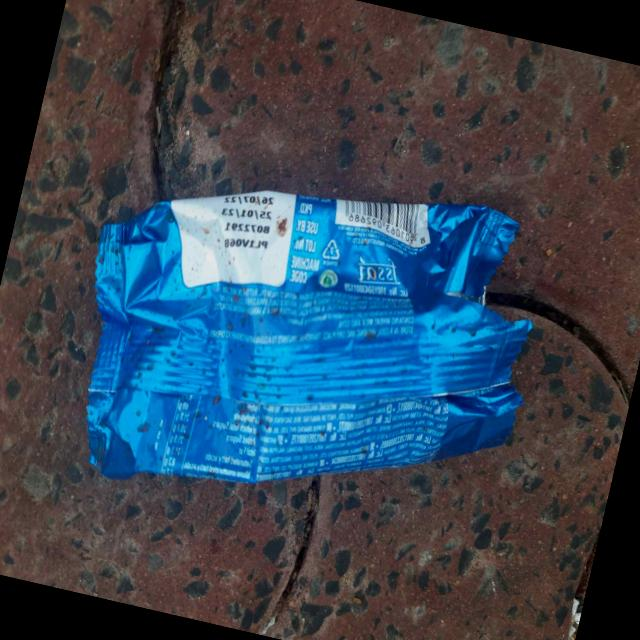giay_goi: (86, 190, 531, 483)
